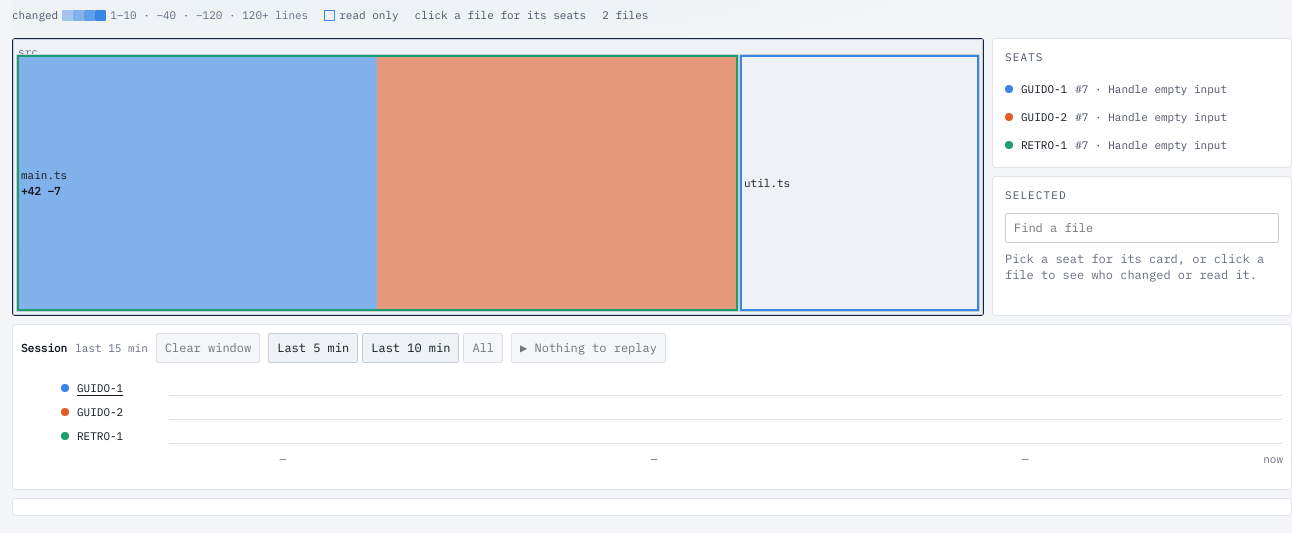
Test case: finds a file and shows each seat that touched it: changed with its +/−, read, or both
The width and height of the screenshot is (1292, 533).
Type "main" into the search field labelled "Find a file".
click(1142, 228); type("main")  # box [1005, 213, 1279, 243]
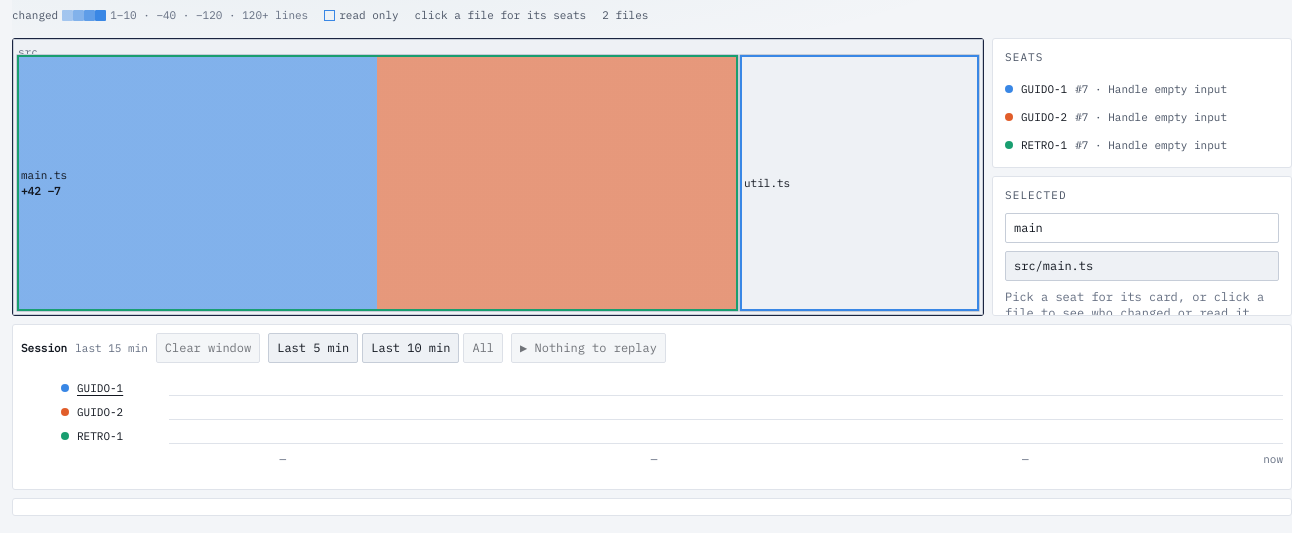
Click the button "src/main.ts".
click(1054, 266)  # box [1005, 251, 1279, 281]
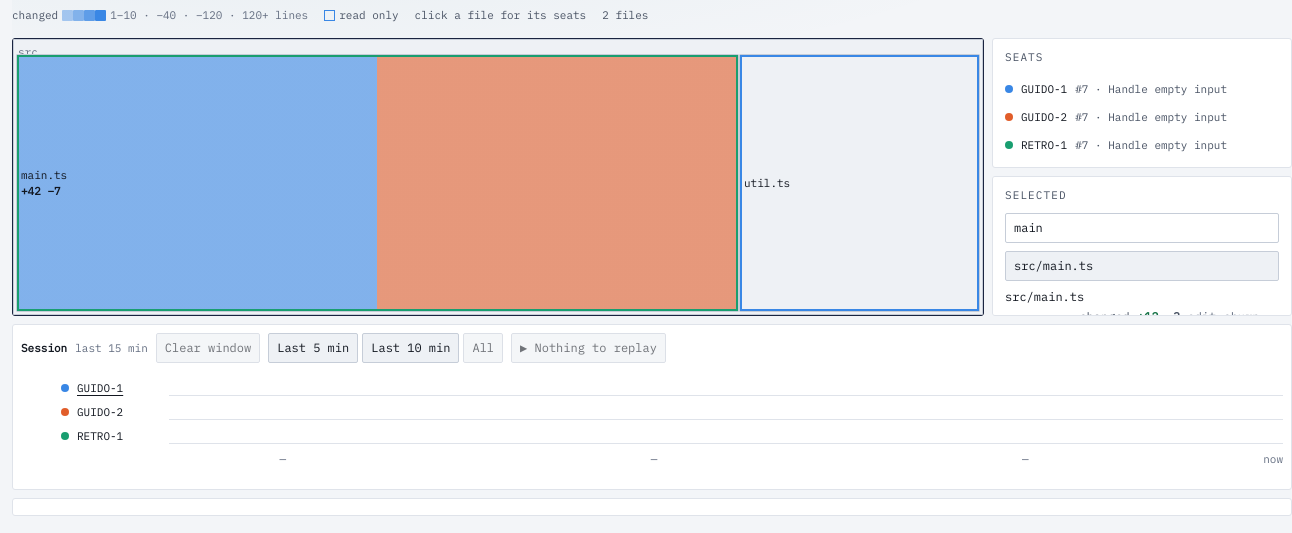
Expected: the element named "Changes treemap" is shown, [13, 39, 983, 315]
Result: the heading "src/main.ts" is shown at [1005, 289, 1084, 304]
